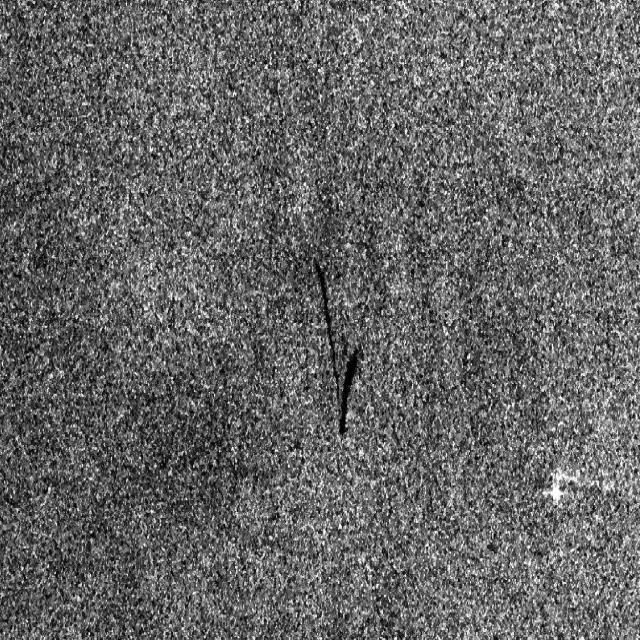oil-spill: (302, 246, 374, 445)
